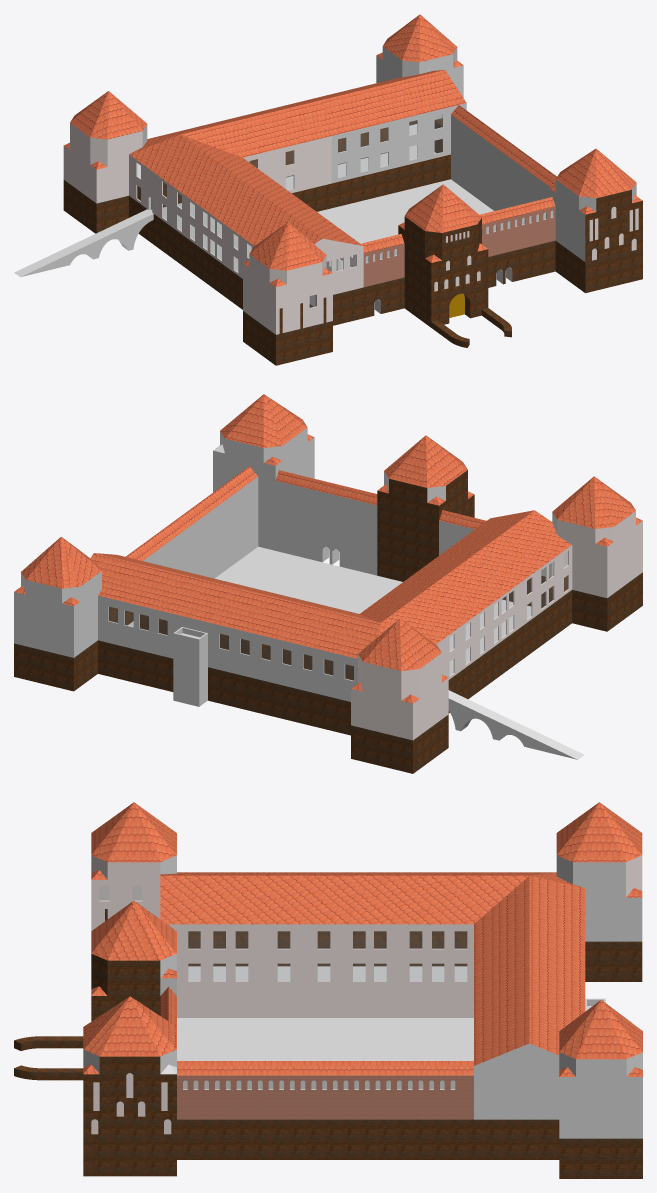
The model's file is mirsky.glb.
3 views of the same model, one above another, from view 1: azimuth 30°, elevation 25°; view 2: azimuth 150°, elevation 25°; view 3: azimuth 270°, elevation 25° (orthographic). The views are drawn at different scales.
Visible parts, largest first — view 1: Geom3D (×5), Geom3D_; view 2: Geom3D (×4), Geom3D_; view 3: Geom3D (×5), Geom3D_.
Part boxes in pixels (left/top/right/bottom): Geom3D (×5): left=63, top=14, right=642, bottom=365; Geom3D_: left=14, top=46, right=636, bottom=313; Geom3D (×4): left=14, top=394, right=642, bottom=773; Geom3D_: left=14, top=428, right=584, bottom=759; Geom3D (×5): left=14, top=802, right=642, bottom=1178; Geom3D_: left=83, top=855, right=642, bottom=1138.
Bounding box in the file's own units: 98.5 × 25 × 88.12.
Materials: 6 (3 with a texture image).
